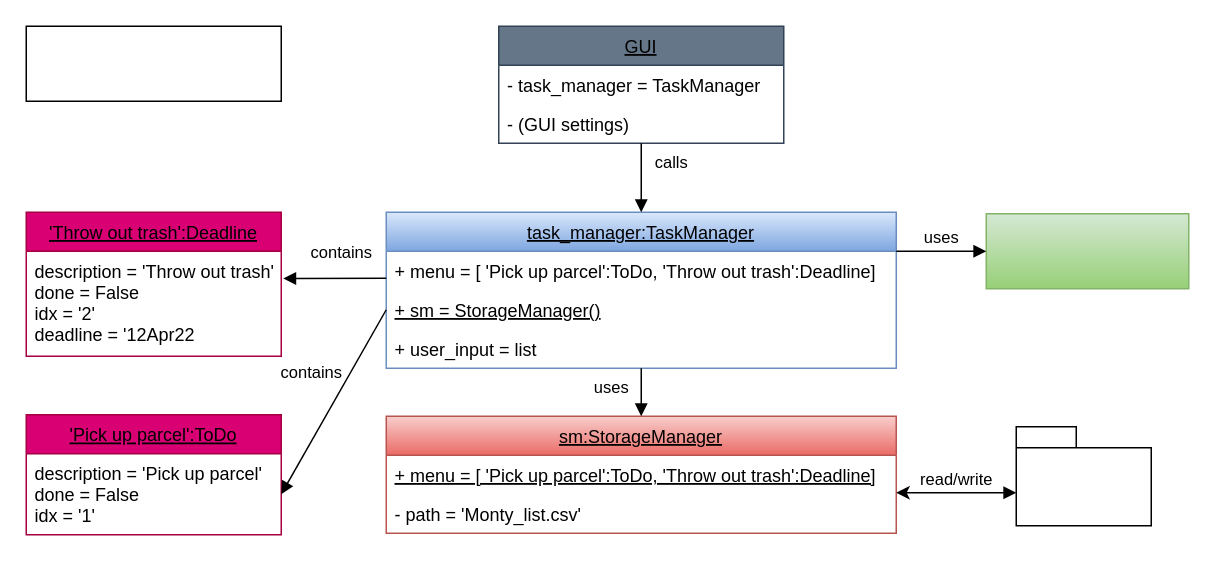
Image size: 1215x566. Some labels were removed from this diagram. Here are the shapes that lost their labels. From the top down, the centre of each, then its label:
At (153,63): "After User inputs two tasks: 1 : Pick up parcel 2 : Throw out trash by 12Apr22".
At (1087,250): "Validate_date(date:str)".
At (1083,475): "Monty_list.csv".
